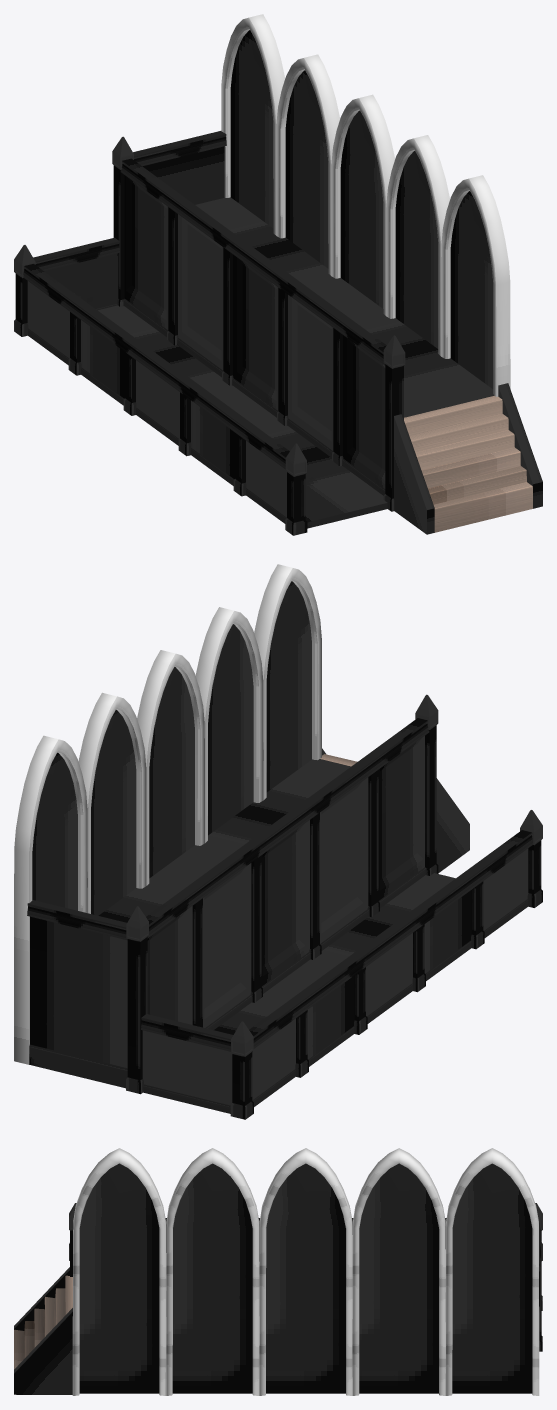
File: SM_ClericStand.fbx
The picture shows the model from 3 angles, top to bottom: view 1: azimuth 30°, elevation 25°; view 2: azimuth 150°, elevation 25°; view 3: azimuth 270°, elevation 25°; orthographic projection. The views are drawn at different scales.
Visible parts, largest first — view 1: SM_ClericStand_LOD0; view 2: SM_ClericStand_LOD0; view 3: SM_ClericStand_LOD0.
Boxes of the visible parts, <box> form: SM_ClericStand_LOD0: <box>14,14,542,535</box>; SM_ClericStand_LOD0: <box>14,564,542,1119</box>; SM_ClericStand_LOD0: <box>14,1148,542,1395</box>.
Bounding box in the file's own units: 369 × 908 × 458.
